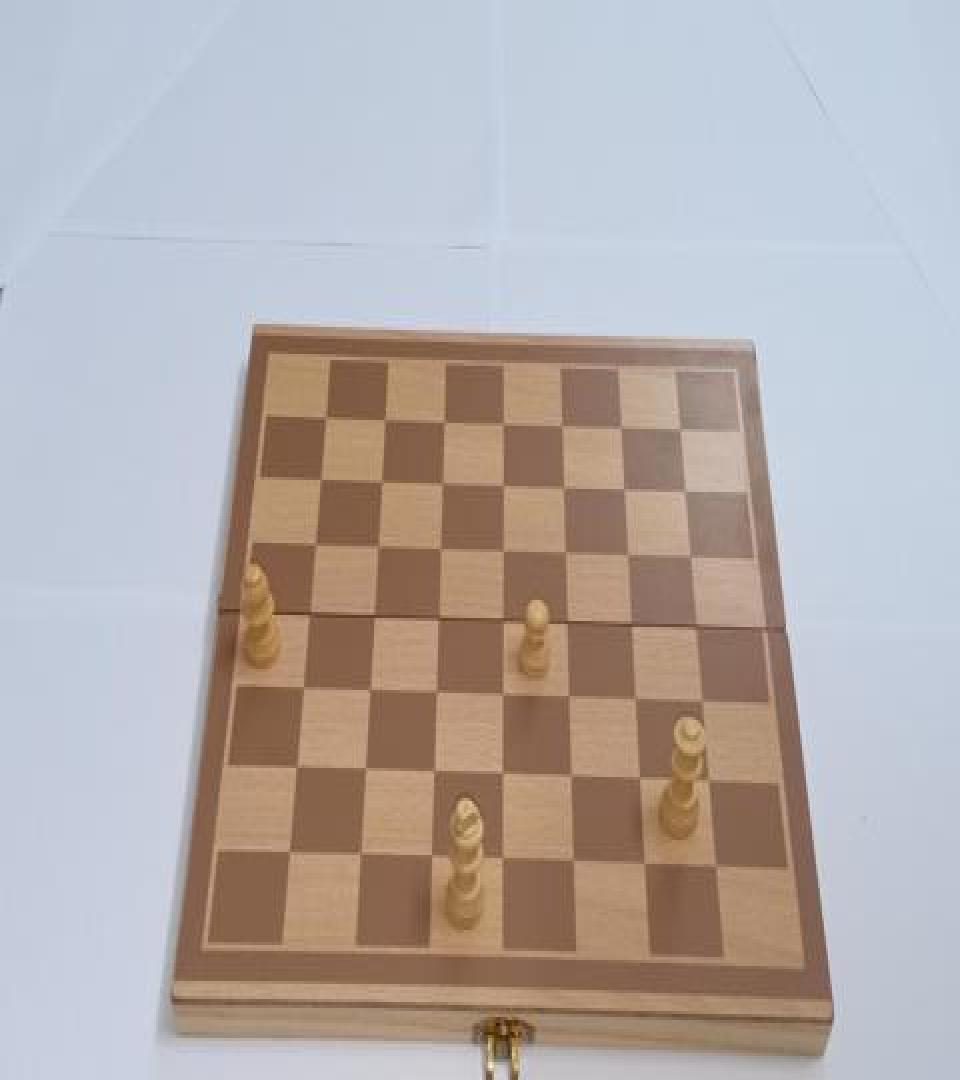xcorner: (375, 406, 393, 434), (357, 760, 375, 788), (433, 472, 451, 500), (618, 478, 636, 506), (315, 405, 333, 432), (310, 468, 328, 495), (305, 534, 323, 561), (300, 604, 318, 631), (288, 759, 306, 786), (281, 843, 299, 870), (372, 470, 390, 497), (365, 606, 383, 633), (361, 681, 379, 708), (353, 846, 371, 873), (432, 538, 450, 565), (430, 609, 448, 636), (429, 684, 447, 711), (495, 411, 513, 438), (495, 474, 513, 501), (495, 540, 513, 567), (496, 610, 514, 637), (496, 765, 514, 792), (497, 851, 515, 878), (554, 414, 572, 441), (556, 477, 574, 504), (558, 543, 576, 570), (563, 689, 581, 716), (566, 768, 584, 795), (568, 852, 586, 879), (614, 415, 632, 442), (622, 545, 640, 572), (626, 615, 644, 642), (630, 690, 648, 717), (640, 855, 658, 882), (674, 417, 692, 444), (679, 480, 697, 507), (691, 618, 709, 645), (697, 693, 715, 720), (704, 772, 722, 799), (711, 857, 729, 884), (294, 680, 312, 706), (369, 536, 387, 562), (435, 410, 453, 436), (427, 764, 445, 790), (425, 848, 443, 874), (496, 686, 514, 712), (561, 614, 579, 640), (635, 770, 653, 796), (685, 548, 703, 574)
